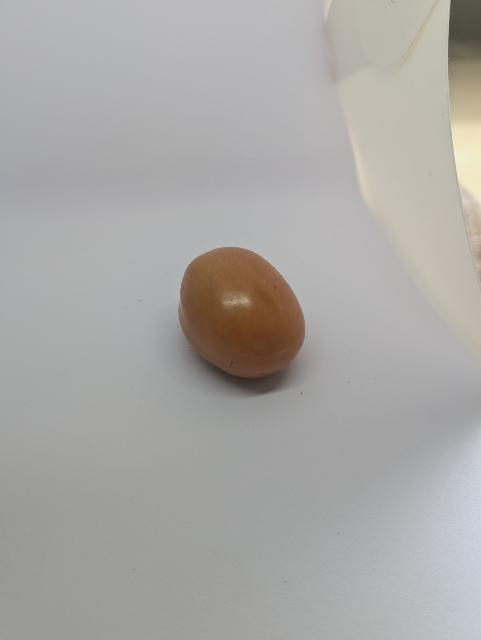turning: (169, 241, 317, 392)
